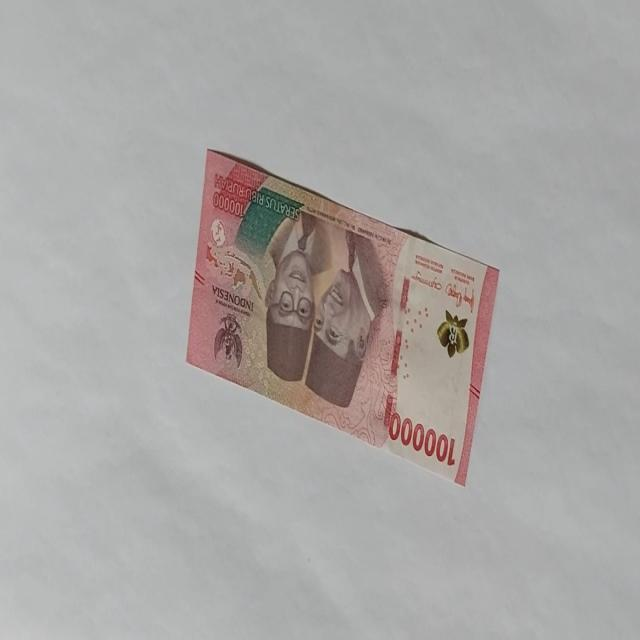seratus ribu rupiah: (185, 146, 500, 488)
